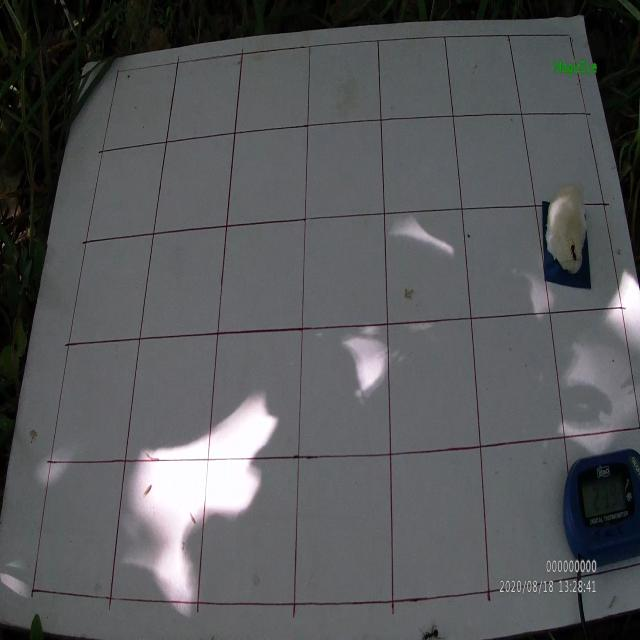Ant: (418, 623, 447, 640), (567, 237, 580, 264)
